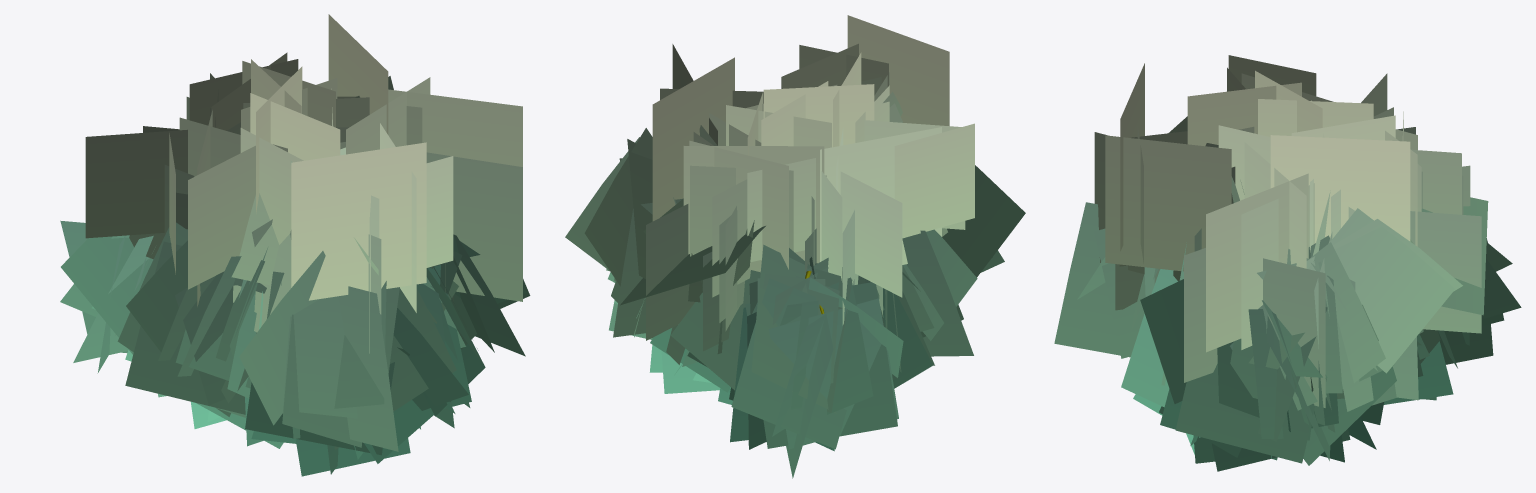
The model's file is bilberry_b.glb.
3 views of the same model, side by side, from view 1: azimuth 30°, elevation 25°; view 2: azimuth 150°, elevation 25°; view 3: azimuth 270°, elevation 25° (orthographic). The views are drawn at different scales.
Parts seen in each view (by area): view 1: LOD0; view 2: LOD0; view 3: LOD0.
Boxes of the visible parts, x1,y1,x2,y2 form: LOD0: (60, 14, 530, 476); LOD0: (565, 15, 1025, 478); LOD0: (1054, 55, 1521, 471).
Size of what is drawn, in the model's own units: 0.8721 by 0.7459 by 0.9146.
